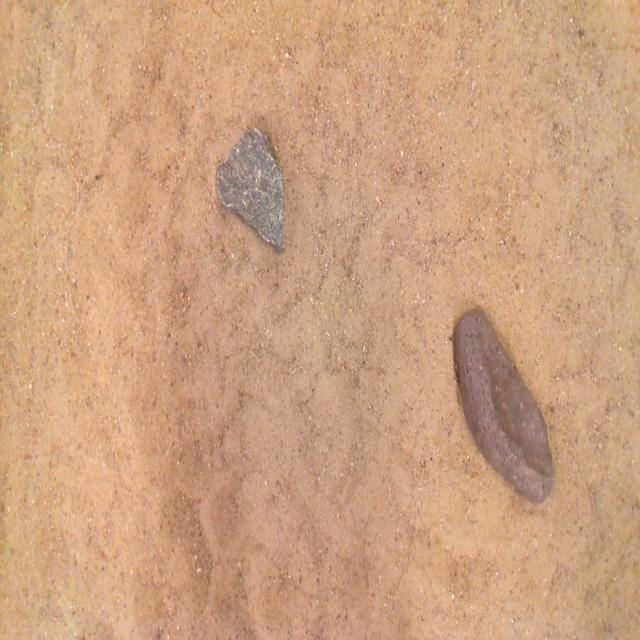rock: (453, 311, 553, 501), (216, 129, 284, 251)
